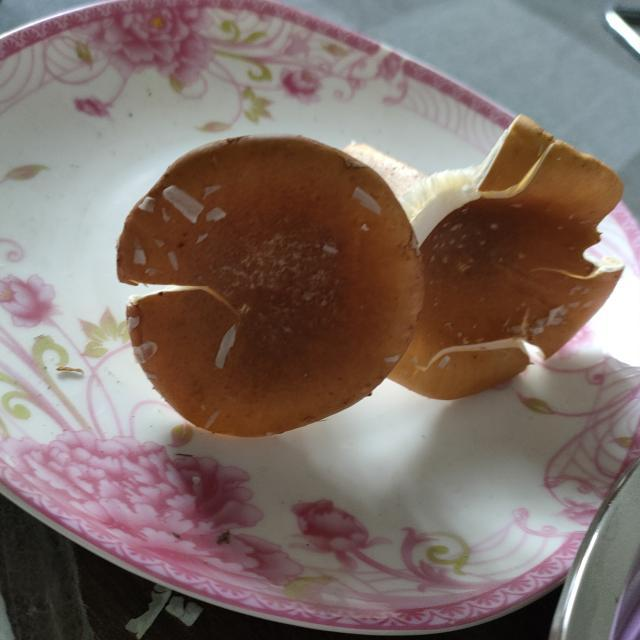Clitocybe maxima: (118, 136, 423, 437), (344, 123, 624, 397)
